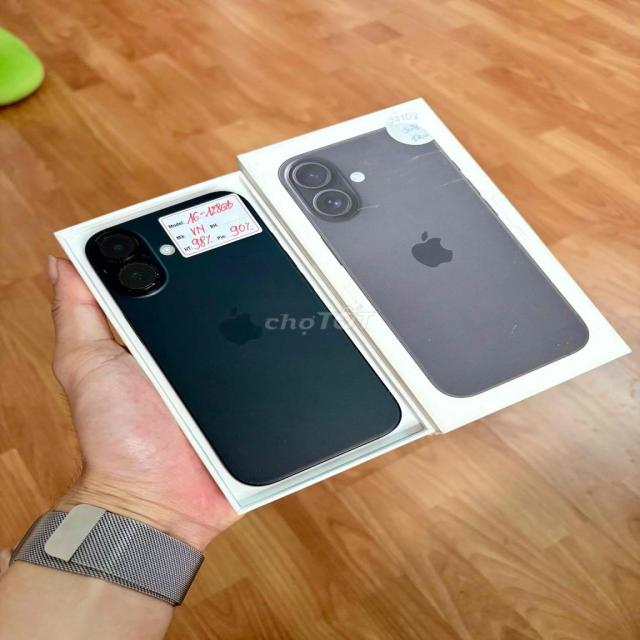gen_16: (86, 191, 400, 485)
